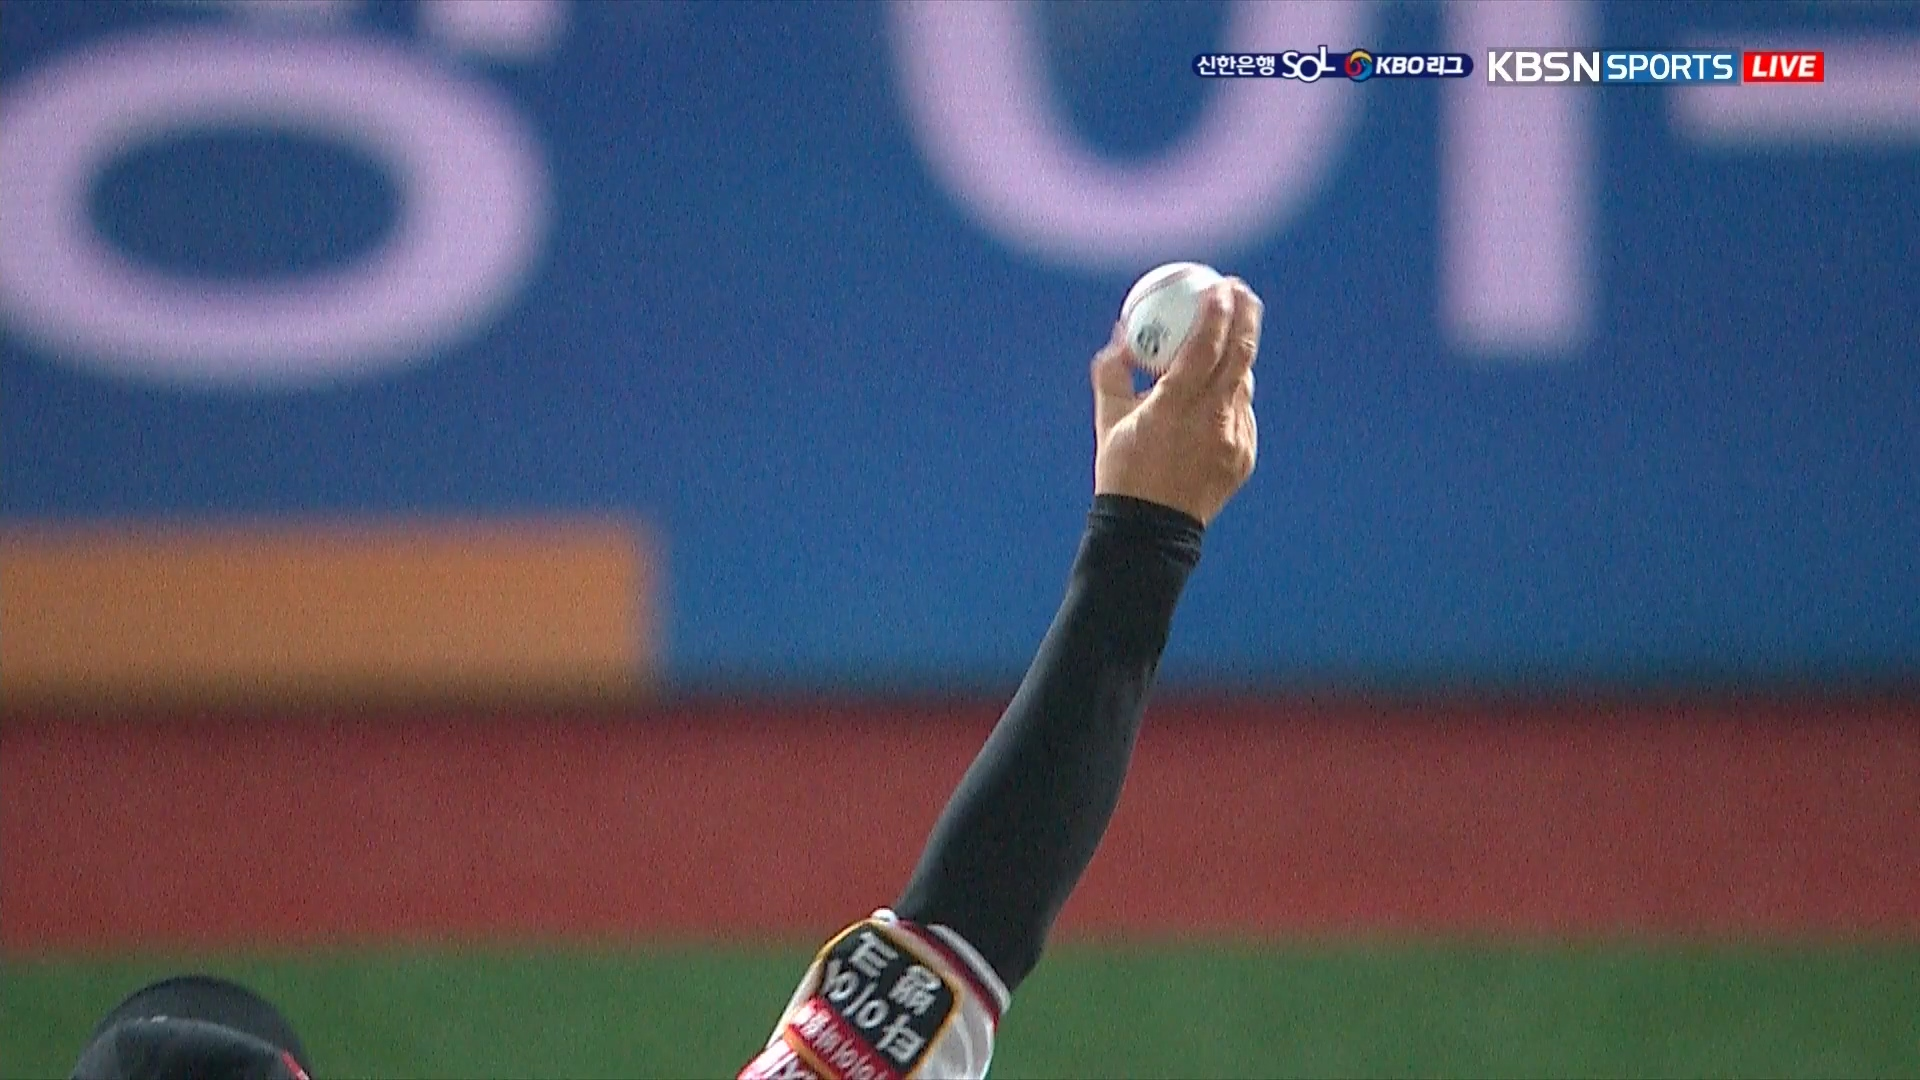zoomin_hand: (957, 253, 1286, 989)
